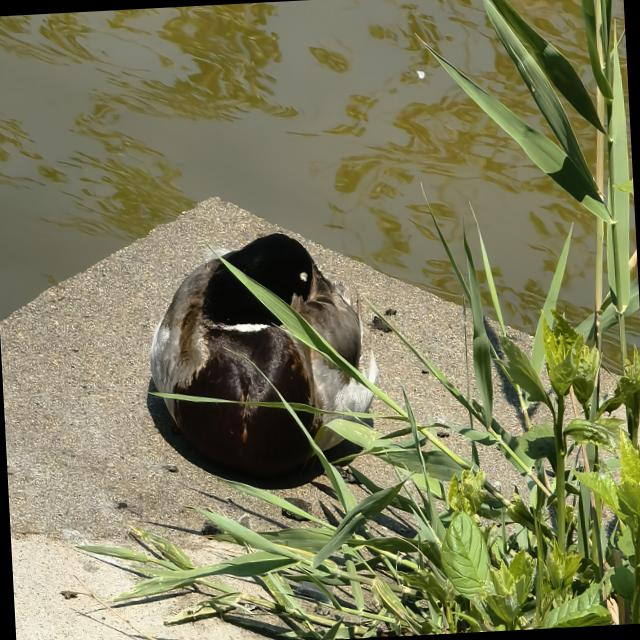duck: (134, 230, 382, 463)
